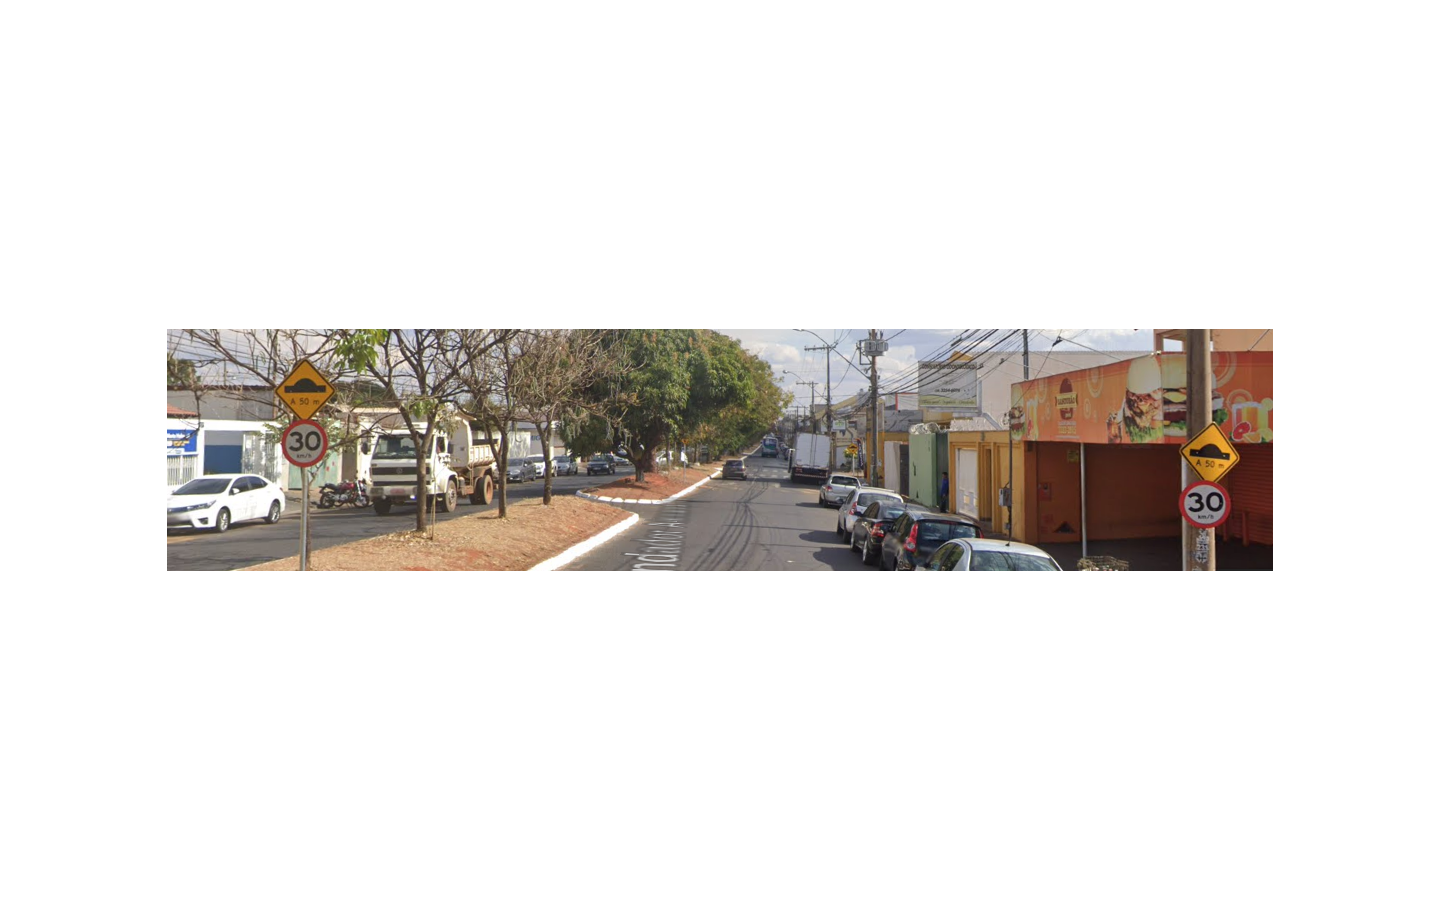l50m: (1179, 421, 1240, 484), (274, 359, 335, 419)
